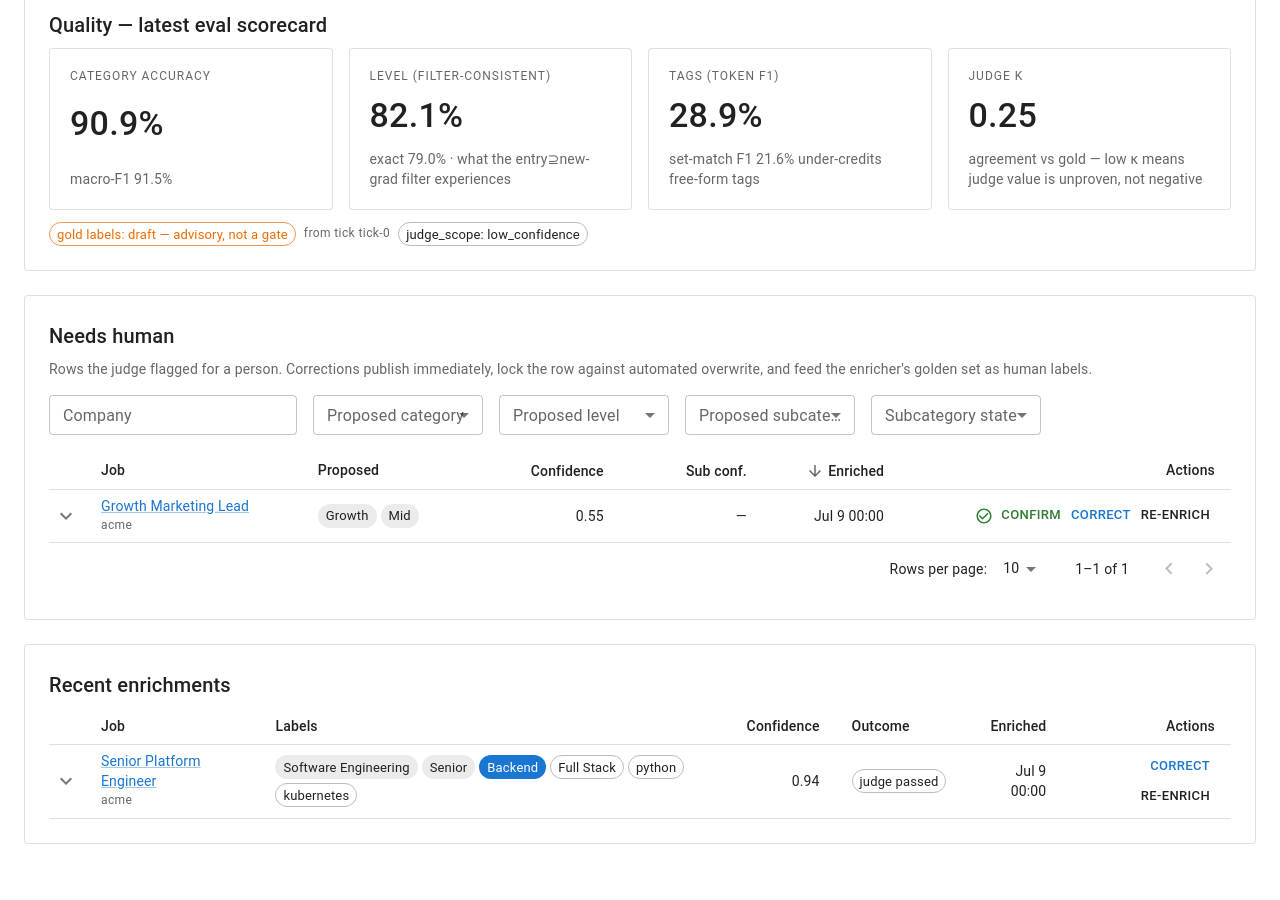
Scenario: AdminEnrichmentPage › shows the subcategory control only for a SWE row
(page scrolled)
Click the button "Correct" in the row of "Growth Marketing Lead".
click(1101, 516)  # box [1066,500,1136,531]
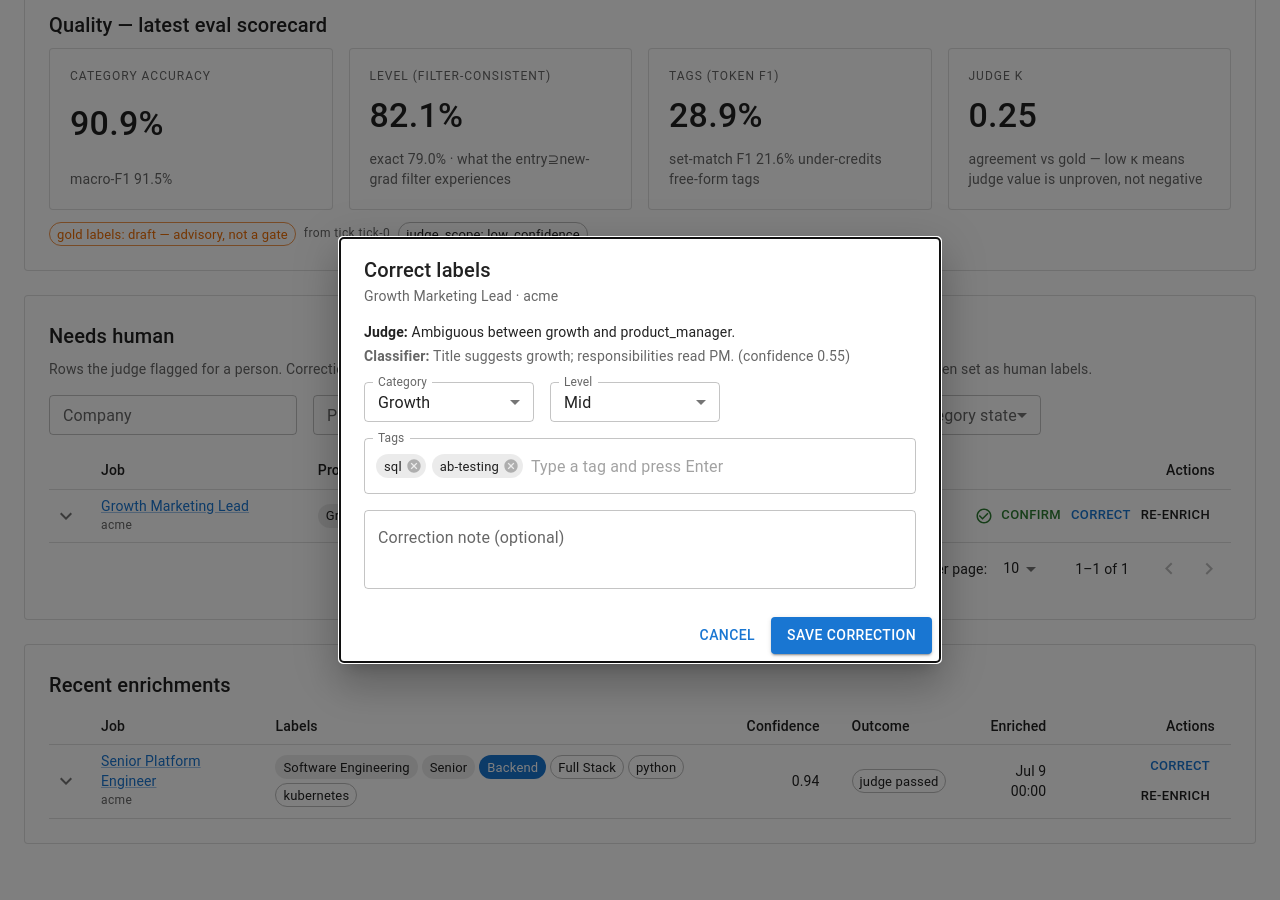
Expected: the dropdown labelled "subcategories" is not shown
Expected: the heading "Correct labels" is shown, [364,258,491,282]
Click the button "Cancel".
click(727, 636)  # box [692,617,763,654]
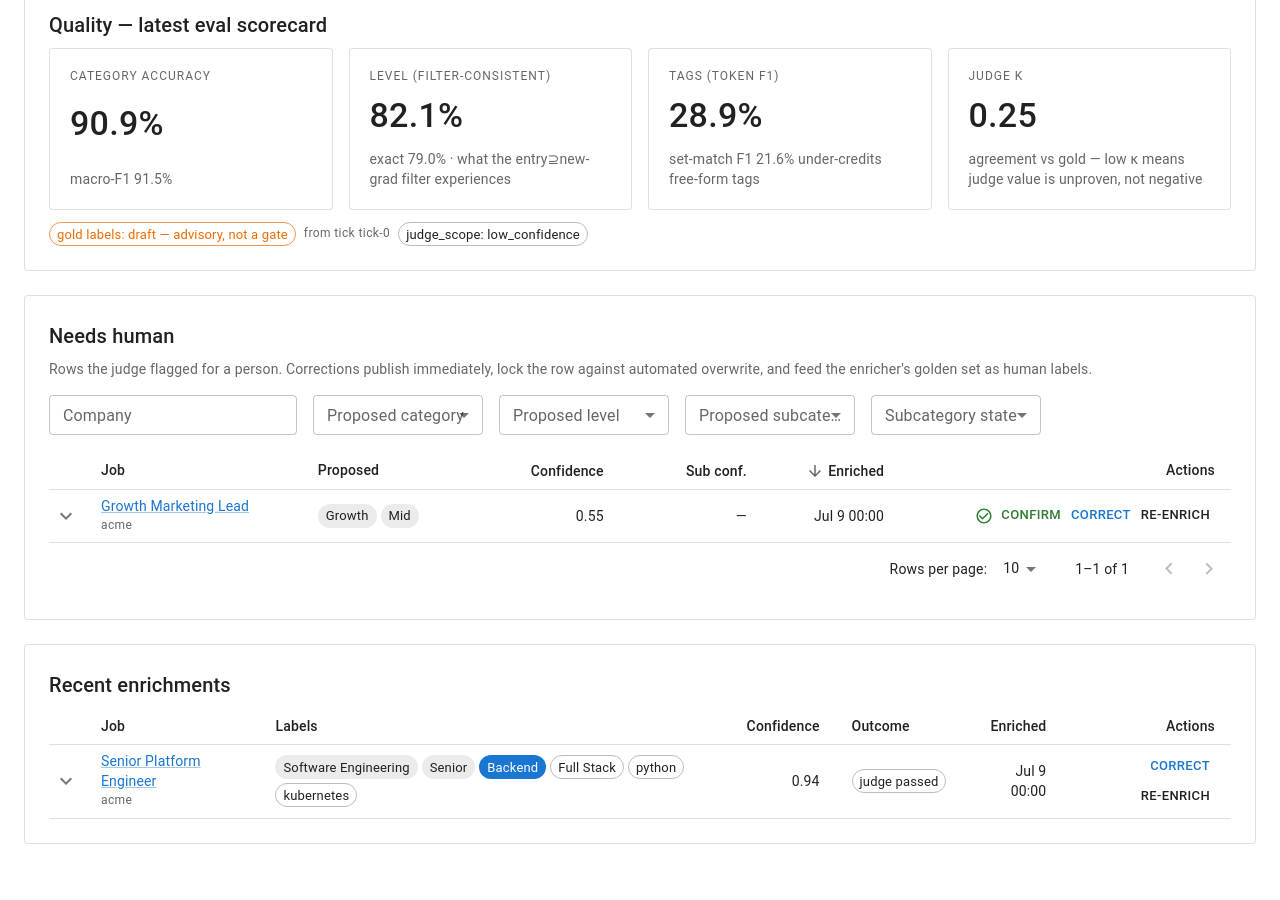
Click the button "Correct" in the row of "Senior Platform Engineer".
click(1180, 766)  # box [1145,751,1215,781]
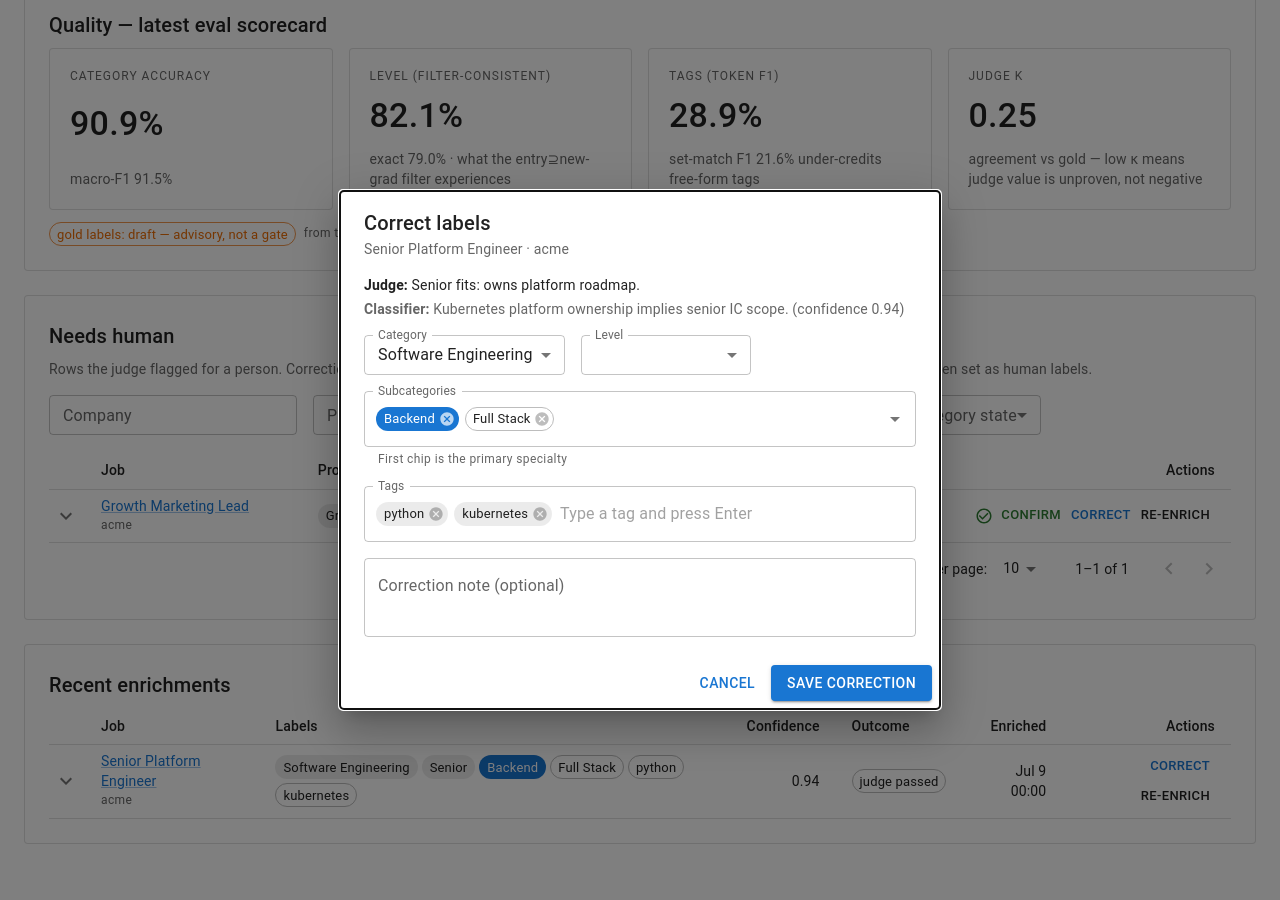
Expected: the heading "Correct labels" is shown, [364,211,491,235]
